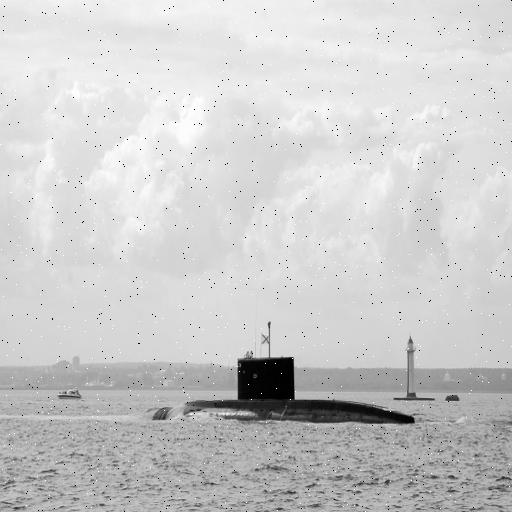submarine: (125, 289, 420, 447)
